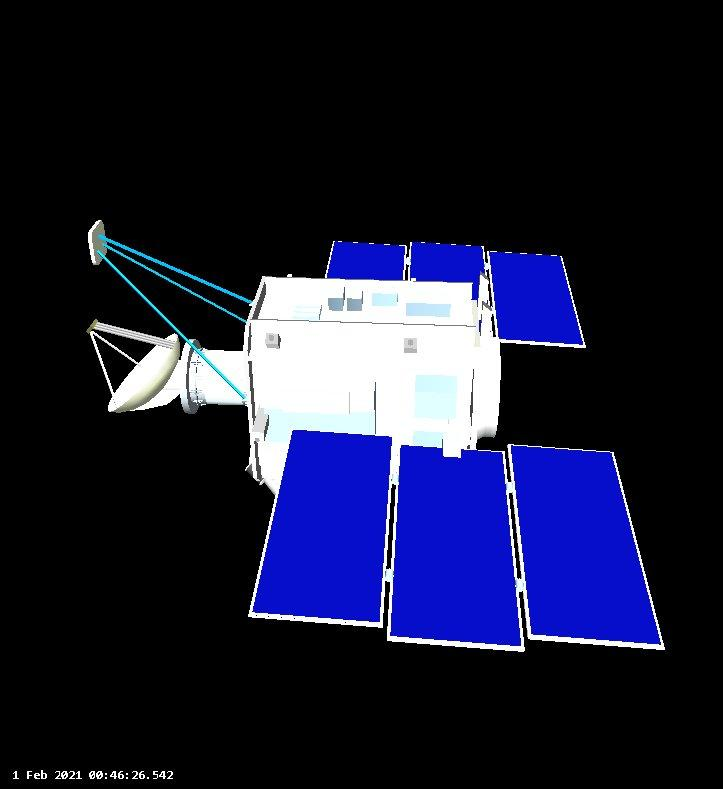antenna: (82, 313, 183, 414), (87, 218, 112, 268)
body: (243, 273, 483, 491)
solar: (504, 442, 667, 653), (248, 413, 396, 633), (385, 439, 526, 652), (489, 247, 587, 348), (409, 235, 492, 305), (319, 238, 407, 292)
